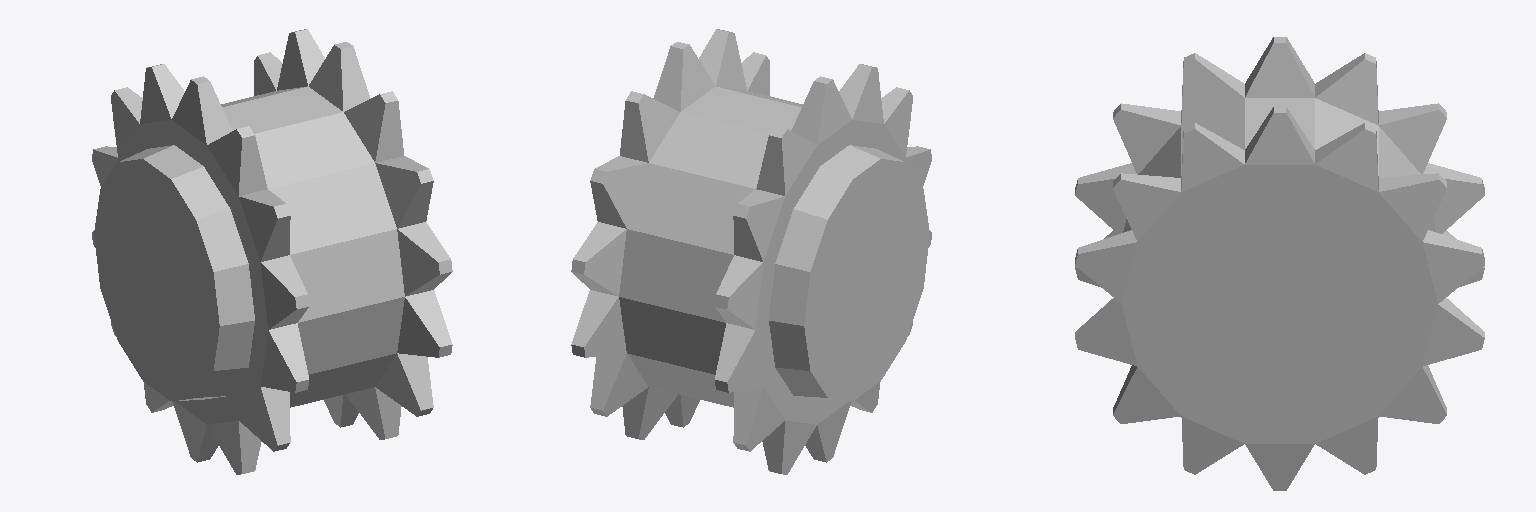
File: JIM_drivhjul_R.obj
The picture shows the model from 3 angles: view 1: azimuth 30°, elevation 25°; view 2: azimuth 150°, elevation 25°; view 3: azimuth 270°, elevation 25°; orthographic projection.
Visible parts, largest first — view 1: submesh0; view 2: submesh0; view 3: submesh0.
Boxes of the visible parts, x1,y1,x2,y2 form: submesh0: [92, 29, 452, 474]; submesh0: [571, 29, 931, 474]; submesh0: [1075, 37, 1484, 490].
Size of the model in its own units: 0.3051 by 0.5566 by 0.5465.